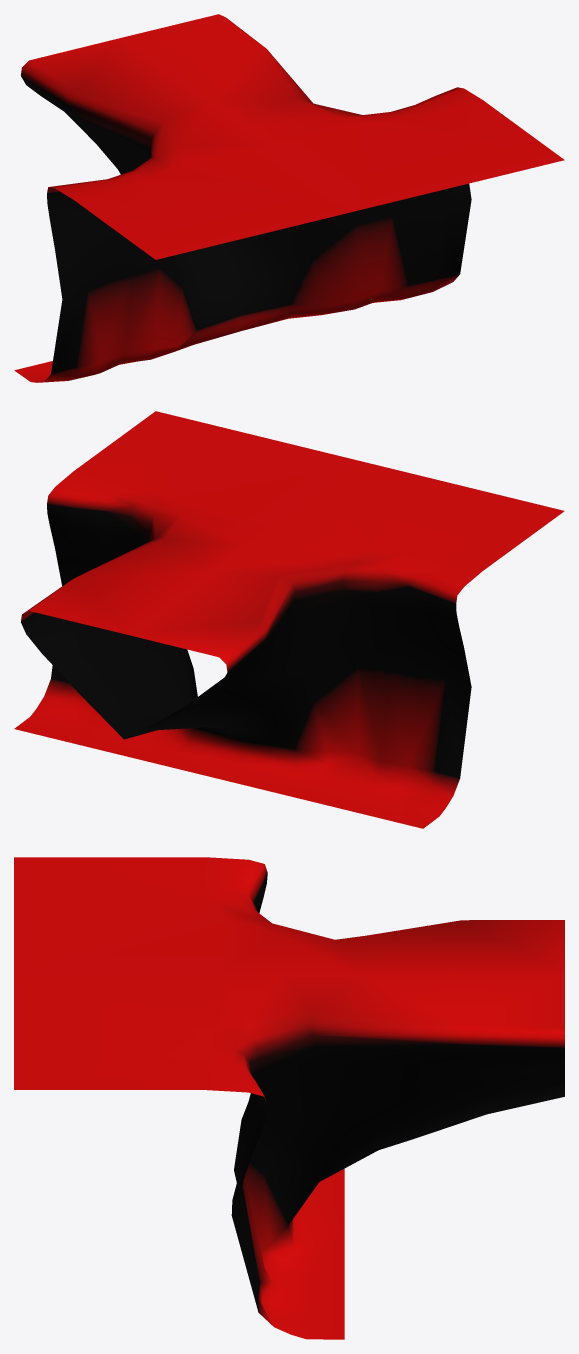
Rendered from CrossingCliff02B 1M Background.fbx.
3 views of the same model, one above another, from view 1: azimuth 30°, elevation 25°; view 2: azimuth 150°, elevation 25°; view 3: azimuth 270°, elevation 25° (orthographic). The views are drawn at different scales.
Visible parts, largest first — view 1: CrossingCliff02B 1M Background; view 2: CrossingCliff02B 1M Background; view 3: CrossingCliff02B 1M Background.
Boxes of the visible parts, <box> form: CrossingCliff02B 1M Background: <box>14,14,564,382</box>; CrossingCliff02B 1M Background: <box>14,411,564,828</box>; CrossingCliff02B 1M Background: <box>14,857,564,1339</box>.
Bounding box in the file's own units: 2 × 1.01 × 2.
